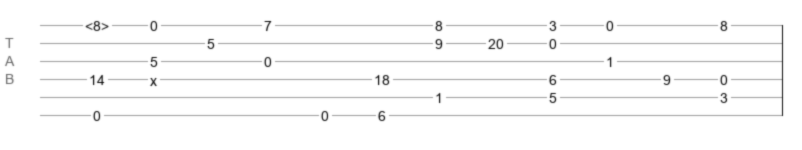0: (93, 108, 101, 118), (150, 18, 158, 28), (264, 54, 272, 64), (321, 108, 329, 118), (549, 36, 557, 46), (606, 18, 614, 28), (720, 72, 728, 82)
1: (435, 90, 443, 100), (606, 54, 614, 64)
14: (89, 72, 105, 82)
18: (374, 72, 390, 82)
20: (488, 36, 504, 46)
3: (549, 18, 557, 28), (720, 90, 728, 100)
5: (150, 54, 158, 64), (207, 36, 215, 46), (549, 90, 557, 100)
6: (378, 108, 386, 118), (549, 72, 557, 82)
7: (264, 18, 272, 28)
8: (435, 18, 443, 28), (720, 18, 728, 28)
9: (435, 36, 443, 46), (663, 72, 671, 82)
harmonic: (85, 18, 109, 28)
x: (150, 73, 157, 81)
